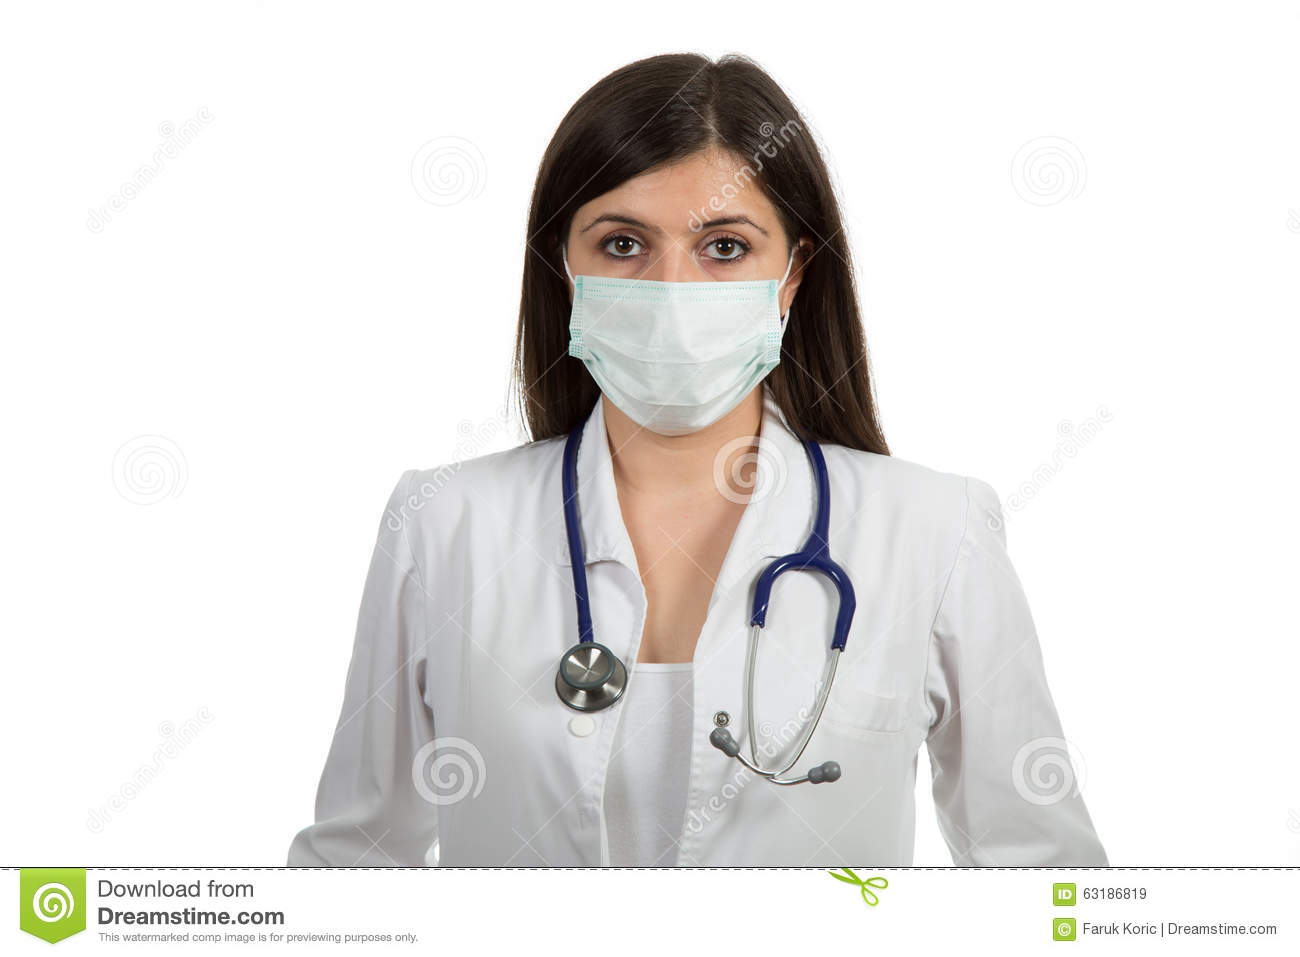mask: (576, 277, 782, 436)
